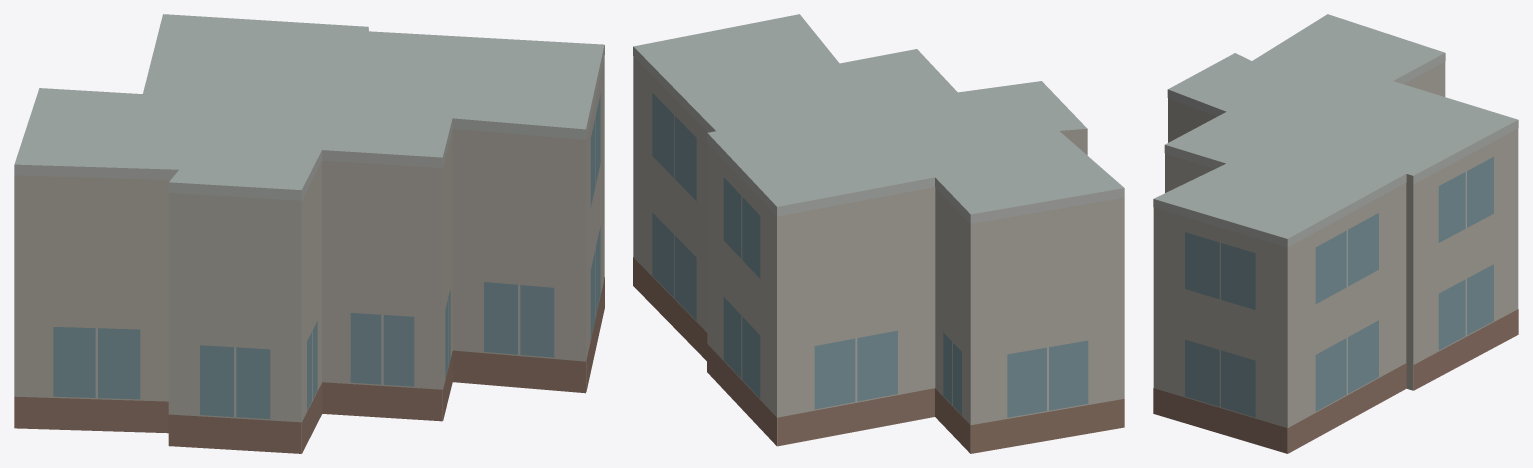
The model's file is survey-upis-32884015.glb.
3 renders of one model, left to right at view 1: azimuth 30°, elevation 25°; view 2: azimuth 150°, elevation 25°; view 3: azimuth 270°, elevation 25°, orthographic. The views are drawn at different scales.
Visible parts, largest first — view 1: survey-upis-32884015.tmp; view 2: survey-upis-32884015.tmp; view 3: survey-upis-32884015.tmp.
Boxes of the visible parts, x1=… form: survey-upis-32884015.tmp: x1=14, y1=14, x2=604, y2=453; survey-upis-32884015.tmp: x1=633, y1=14, x2=1124, y2=453; survey-upis-32884015.tmp: x1=1153, y1=14, x2=1518, y2=453.
Bounding box in the file's own units: 13.7 × 6.1 × 9.4.
